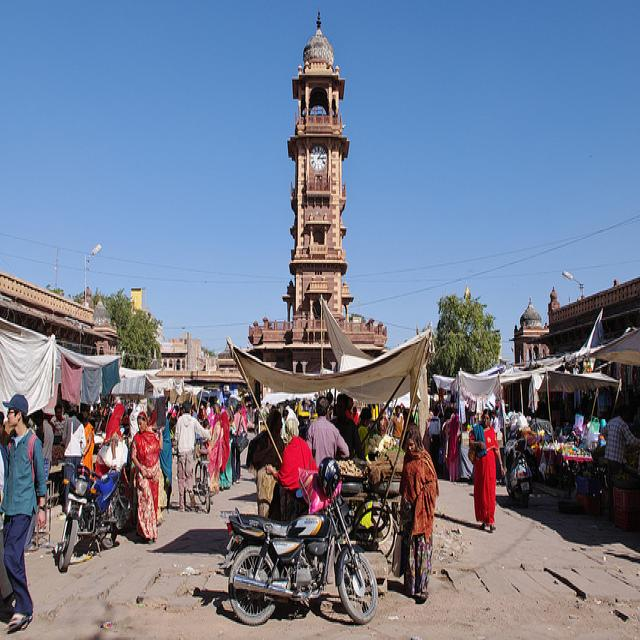motor: (219, 487, 379, 627), (55, 461, 134, 575), (505, 439, 533, 509)
